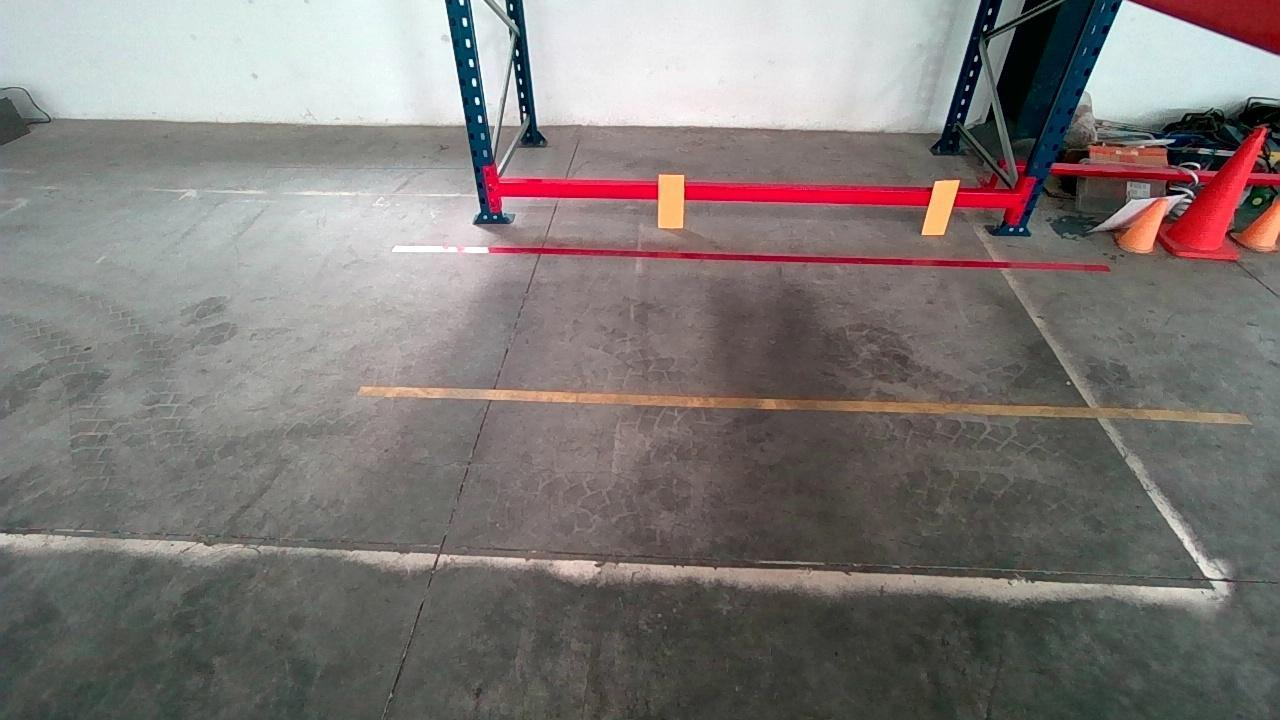h_rack: (491, 180, 1018, 209)
orange_strip: (921, 178, 960, 234), (658, 174, 686, 227)
red_line: (387, 246, 1110, 271)
yellow_line: (359, 383, 1236, 425)
